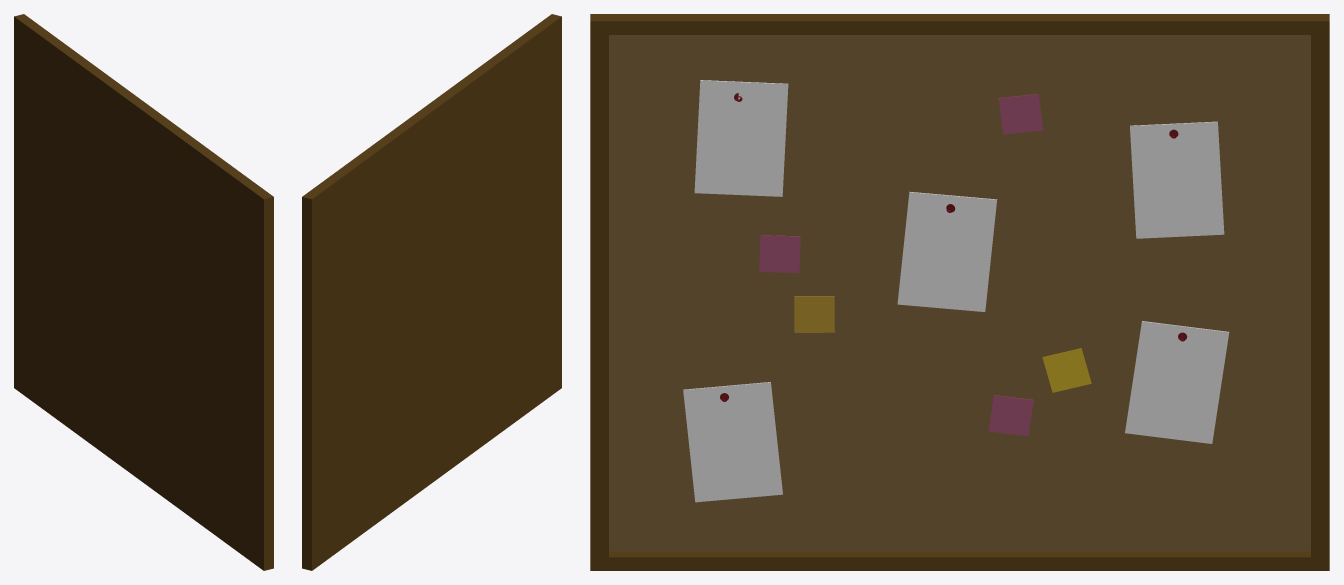
Rendered from board.fbx.
The picture shows the model from 3 angles, left to right: view 1: azimuth 30°, elevation 25°; view 2: azimuth 150°, elevation 25°; view 3: azimuth 270°, elevation 25°; orthographic projection. The views are drawn at different scales.
Visible parts, largest first — view 1: Cube.010; view 2: Cube.010; view 3: Cube.010.
Part boxes in pixels (x1,y1,x2,y2): Cube.010: (14, 14, 273, 570); Cube.010: (302, 14, 561, 570); Cube.010: (590, 14, 1329, 570).
Bounding box in the file's own units: 11.31 × 374 × 455.
